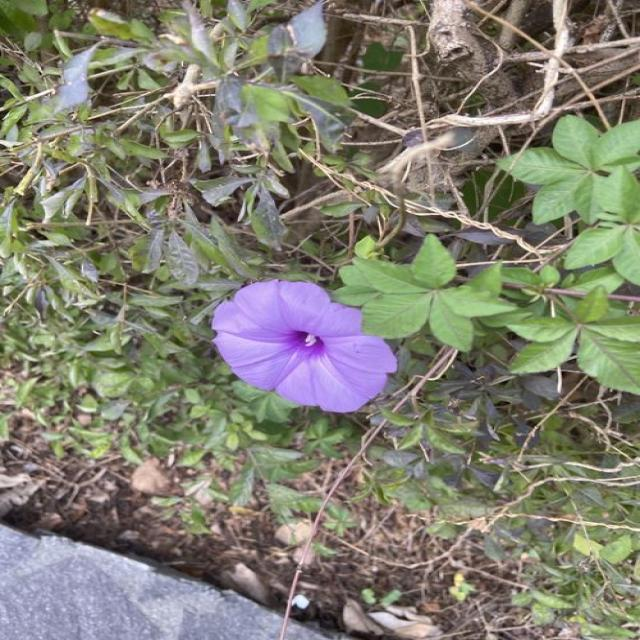ipomoea: (206, 276, 401, 416)
